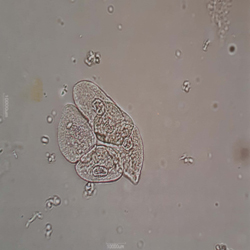Epithelial: (48, 80, 150, 196)
